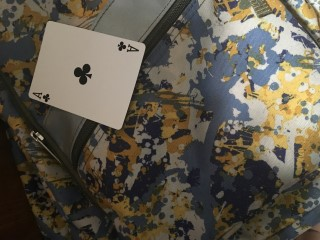AceOfClubs: (28, 19, 146, 131)
